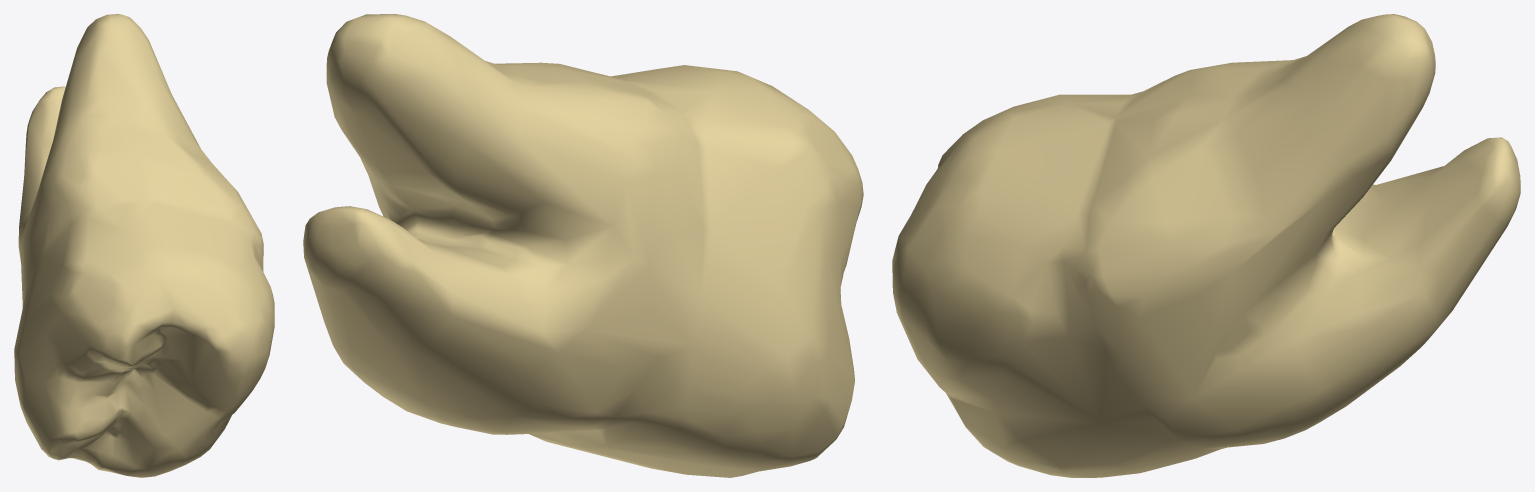
3 renders of one model, left to right at view 1: azimuth 30°, elevation 25°; view 2: azimuth 150°, elevation 25°; view 3: azimuth 270°, elevation 25°, orthographic. The views are drawn at different scales.
Visible parts, largest first — view 1: 左侧下颌第二磨牙; view 2: 左侧下颌第二磨牙; view 3: 左侧下颌第二磨牙.
Boxes of the visible parts, box(x1,y1,x2,y2) form: 左侧下颌第二磨牙: box(14, 14, 274, 477); 左侧下颌第二磨牙: box(303, 14, 863, 477); 左侧下颌第二磨牙: box(892, 14, 1520, 477).
Bounding box in the file's own units: 0.0174 × 0.0238 × 0.0269.
